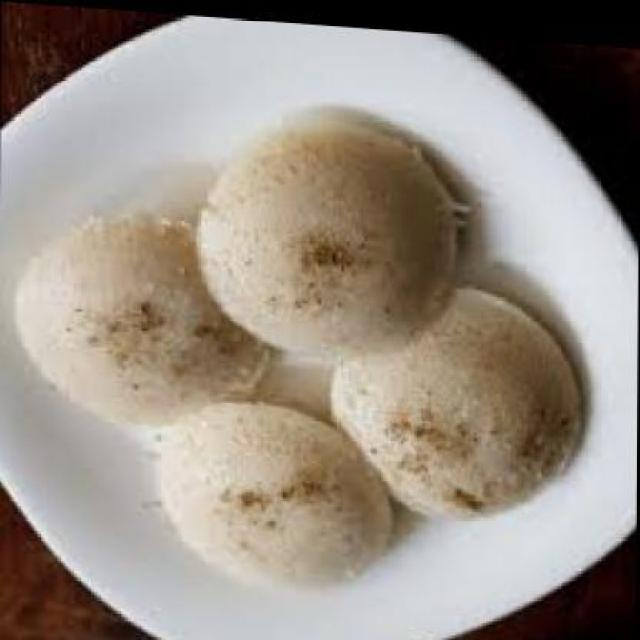idli: (196, 103, 458, 360), (329, 274, 580, 517), (11, 208, 269, 428), (154, 392, 395, 590)
